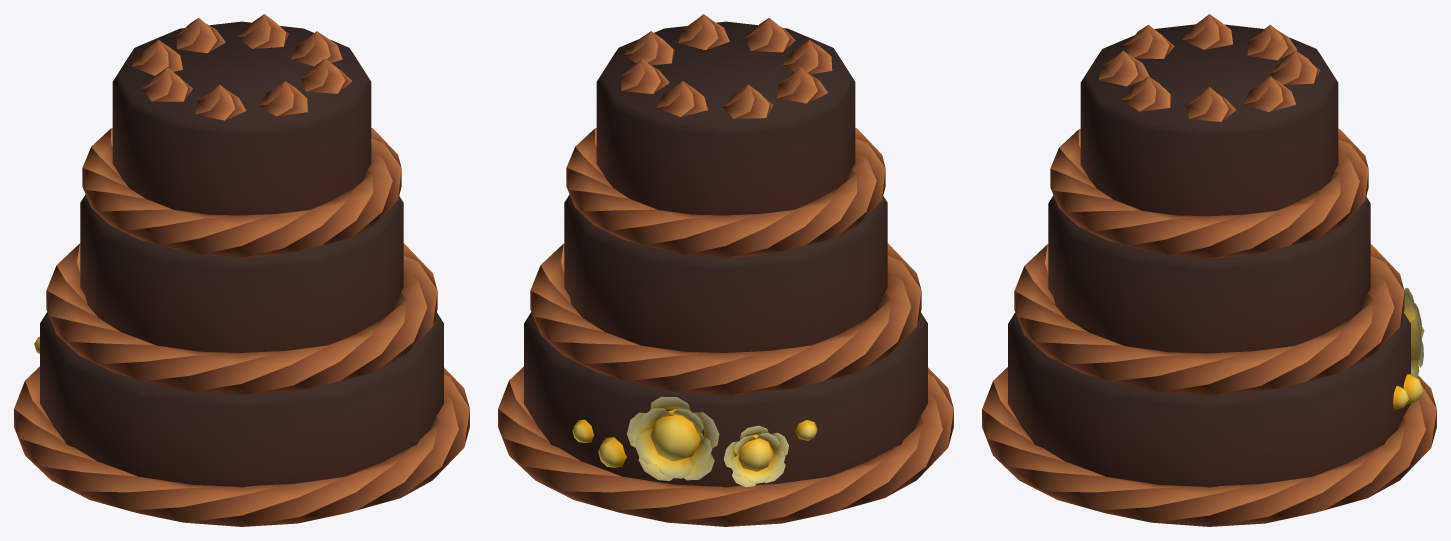
The model's file is m_WeddingCake04.fbx.
3 renders of one model, left to right at view 1: azimuth 30°, elevation 25°; view 2: azimuth 150°, elevation 25°; view 3: azimuth 270°, elevation 25°, orthographic.
Parts seen in each view (by area): view 1: m_WeddingCake04; view 2: m_WeddingCake04; view 3: m_WeddingCake04.
Boxes of the visible parts, x1,y1,x2,y2 form: m_WeddingCake04: (14, 14, 469, 526); m_WeddingCake04: (498, 14, 953, 526); m_WeddingCake04: (982, 14, 1436, 526).
Size of the model in its own units: 32 by 29.61 by 31.61.
